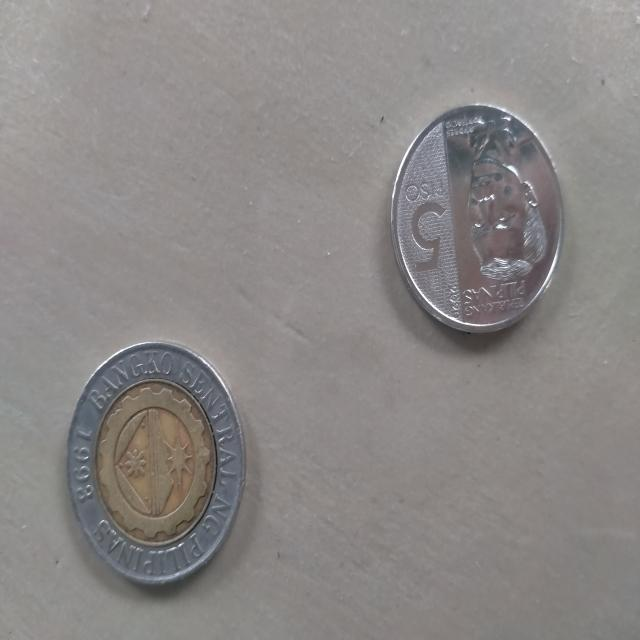10_Old_Back: (66, 342, 246, 588)
5_New_Front: (398, 178, 452, 291)
